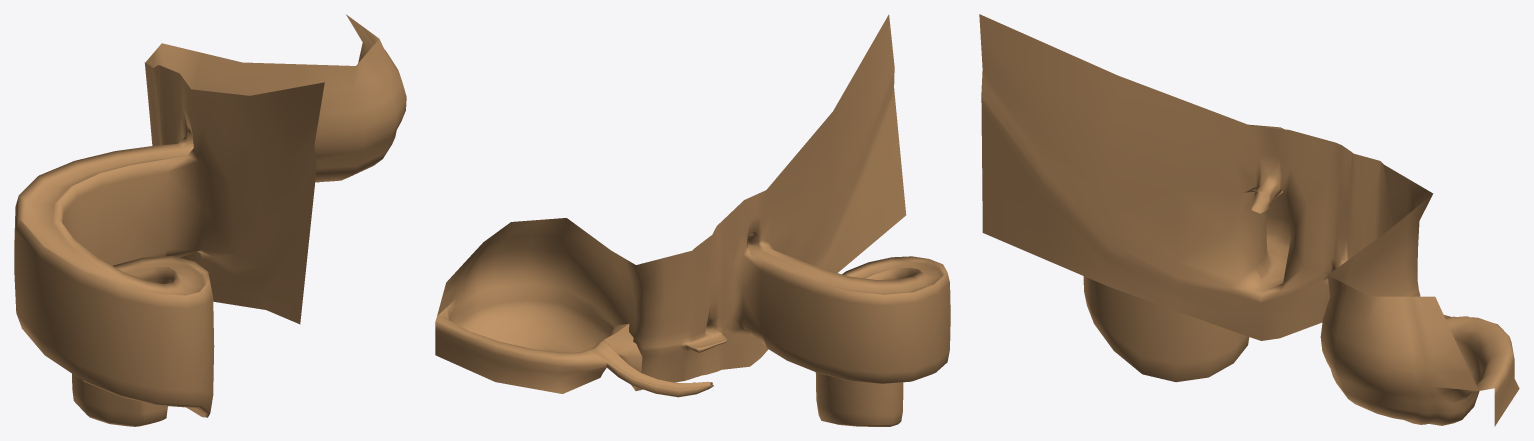
The model's file is terrain_W4A2.fbx.
The picture shows the model from 3 angles, left to right: view 1: azimuth 30°, elevation 25°; view 2: azimuth 150°, elevation 25°; view 3: azimuth 270°, elevation 25°; orthographic projection. The views are drawn at different scales.
Parts seen in each view (by area): view 1: W4A2_mesh; view 2: W4A2_mesh; view 3: W4A2_mesh.
Part boxes in pixels (bbox=[...]): W4A2_mesh: bbox=[14, 14, 406, 426]; W4A2_mesh: bbox=[435, 14, 950, 426]; W4A2_mesh: bbox=[979, 14, 1519, 426].
Size of the model in its own units: 20610 by 16774 by 21537.
